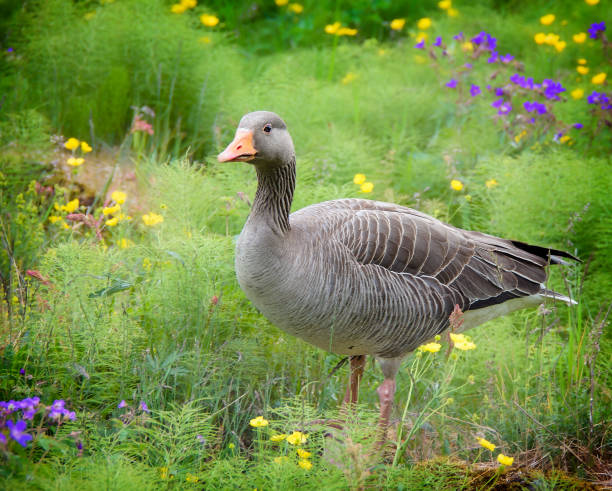goose: (207, 103, 590, 431)
